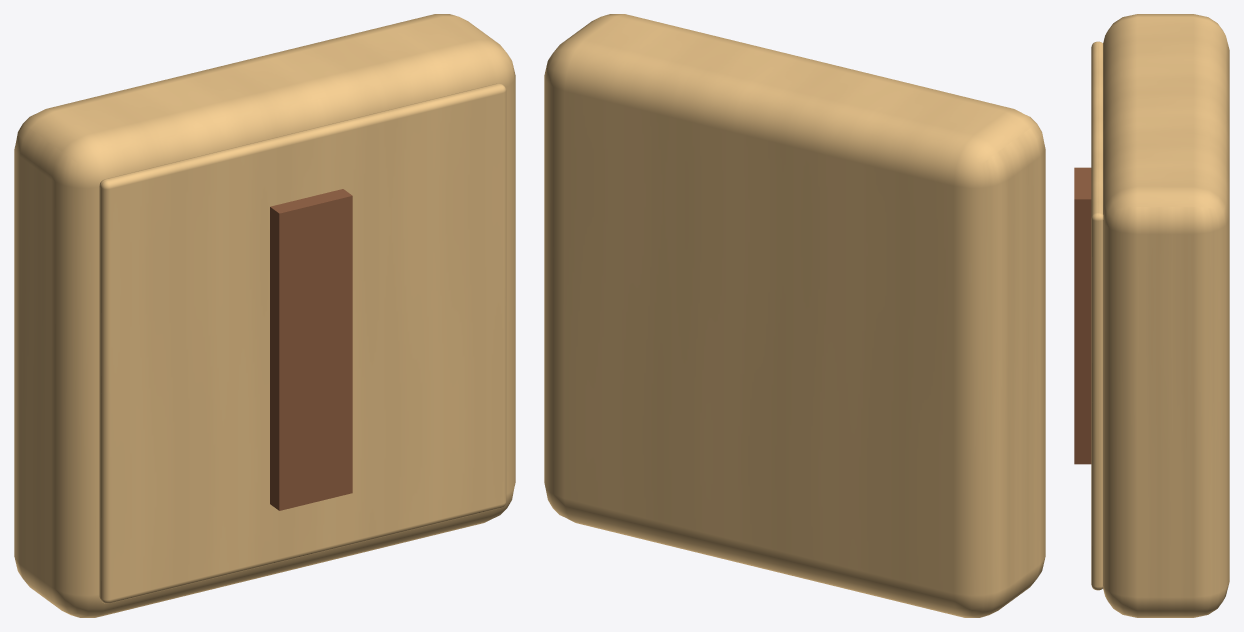
3 views of the same model, side by side, from view 1: azimuth 30°, elevation 25°; view 2: azimuth 150°, elevation 25°; view 3: azimuth 270°, elevation 25° (orthographic). The views are drawn at different scales.
Parts seen in each view (by area): view 1: Tile_I; view 2: Tile_I; view 3: Tile_I.
Part boxes in pixels (x1,y1,x2,y2): Tile_I: [14, 14, 515, 617]; Tile_I: [544, 14, 1045, 617]; Tile_I: [1074, 14, 1229, 617].
Size of the model in its own units: 0.21 by 0.21 by 0.069.
Materials: 2 (1 with a texture image).
